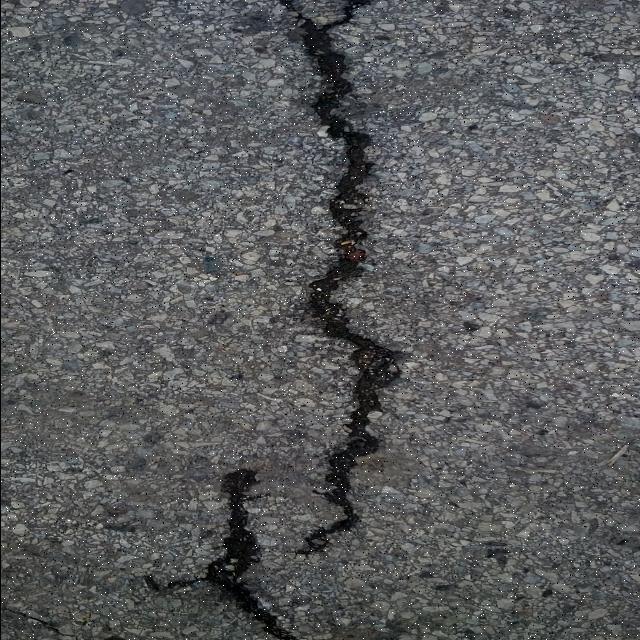Crack: (279, 0, 397, 556), (143, 466, 297, 640)
